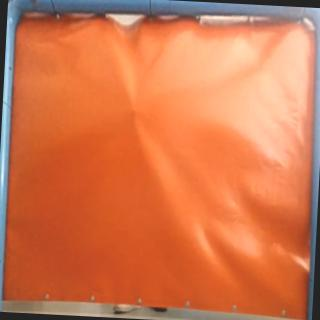Hit-hRxx: (126, 104, 144, 119)
